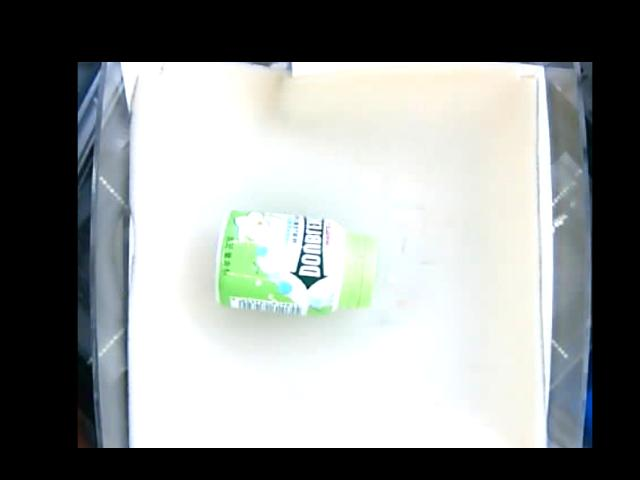Bottle: (214, 209, 377, 316)
